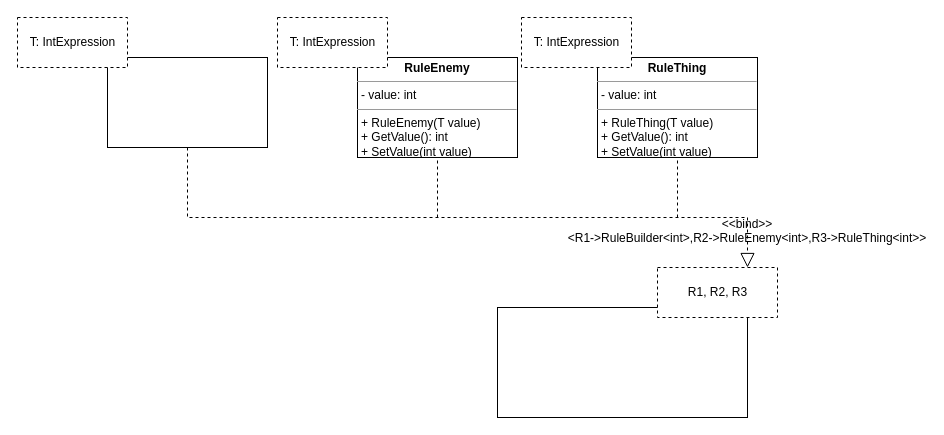
Some shapes in this 944 by 435 pixel diagram are drawn without their labels. Each missing label, with the centre of its shape:
"Game - ruleBuilder: R1 - ruleEnemy: R2 - ruleThing: R3 + StartGame()" goes at point (622, 362).
"RuleBuilder - builder: int + RuleBuilder(T value) + GetBuilder(): int" goes at point (187, 102).
